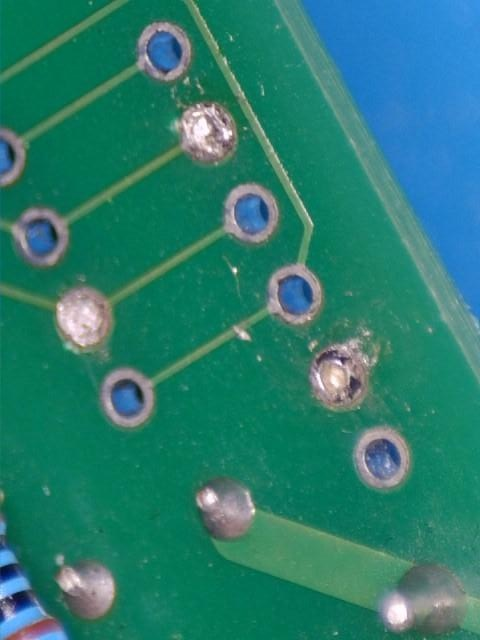pcb_defect: (310, 349, 367, 410), (179, 102, 236, 163), (55, 290, 111, 347)
